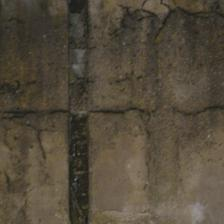Crack: (26, 0, 99, 108), (100, 113, 138, 224), (56, 100, 169, 121), (10, 0, 32, 35)
